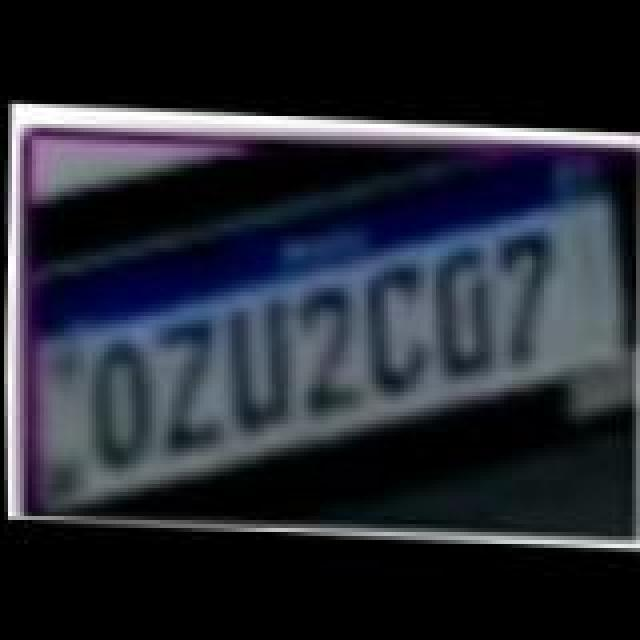2: (282, 282, 374, 422)
7: (486, 226, 574, 370)
C: (350, 260, 442, 400)
D: (420, 242, 508, 378)
O: (78, 338, 162, 474)
U: (212, 298, 304, 438)
Z: (146, 316, 234, 456)
